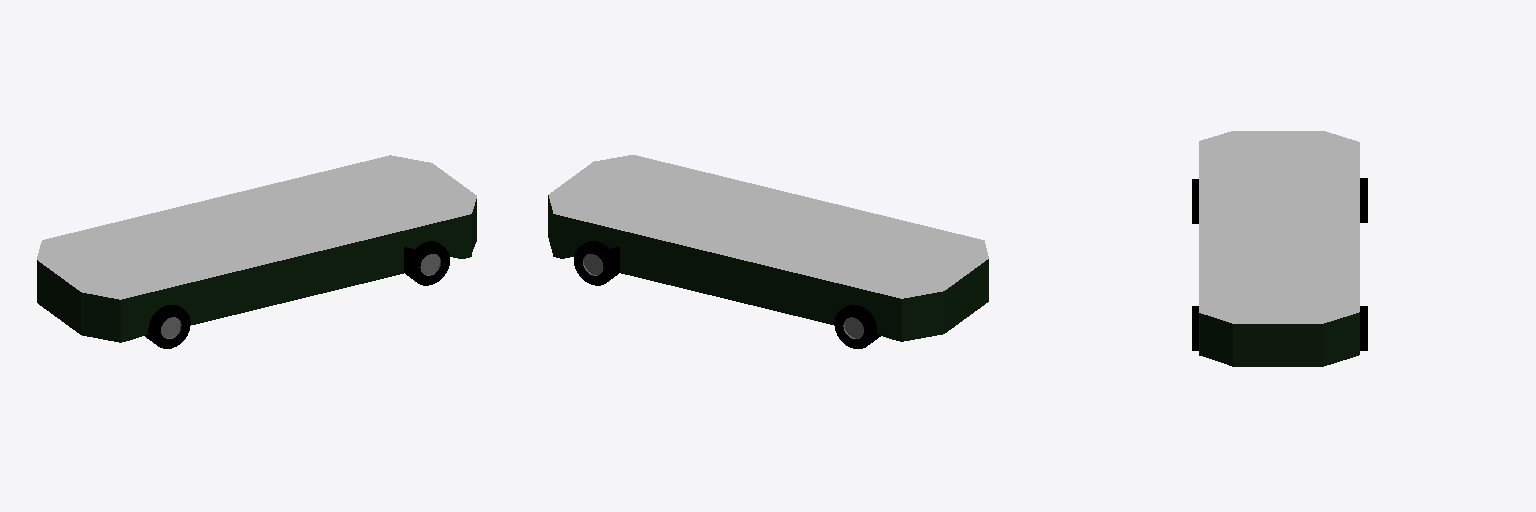
Rendered from avg.obj.
3 views of the same model, side by side, from view 1: azimuth 30°, elevation 25°; view 2: azimuth 150°, elevation 25°; view 3: azimuth 270°, elevation 25° (orthographic).
Visible parts, largest first — view 1: polySurface19; view 2: polySurface19; view 3: polySurface19.
Boxes of the visible parts, box(x1,y1,x2,y2) form: polySurface19: box(37, 155, 476, 348); polySurface19: box(548, 155, 988, 348); polySurface19: box(1192, 131, 1367, 366).
Bounding box in the file's own units: 5.59 × 0.7796 × 2.16.